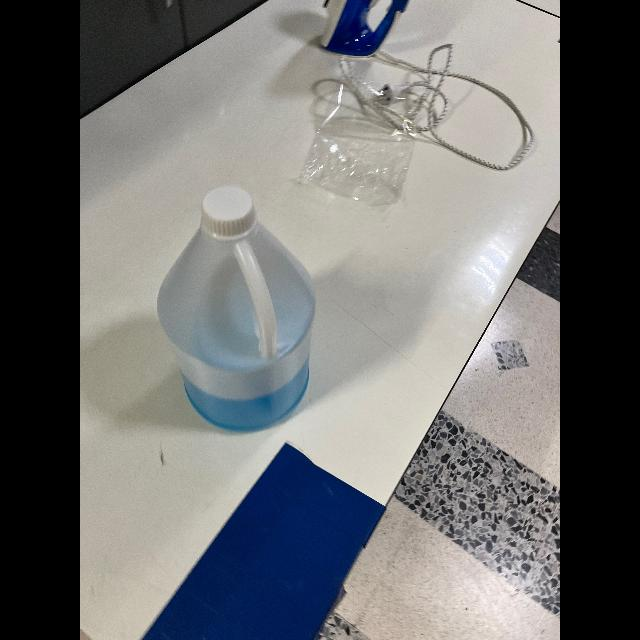chemical_plastic_gallon: (156, 168, 334, 440)
